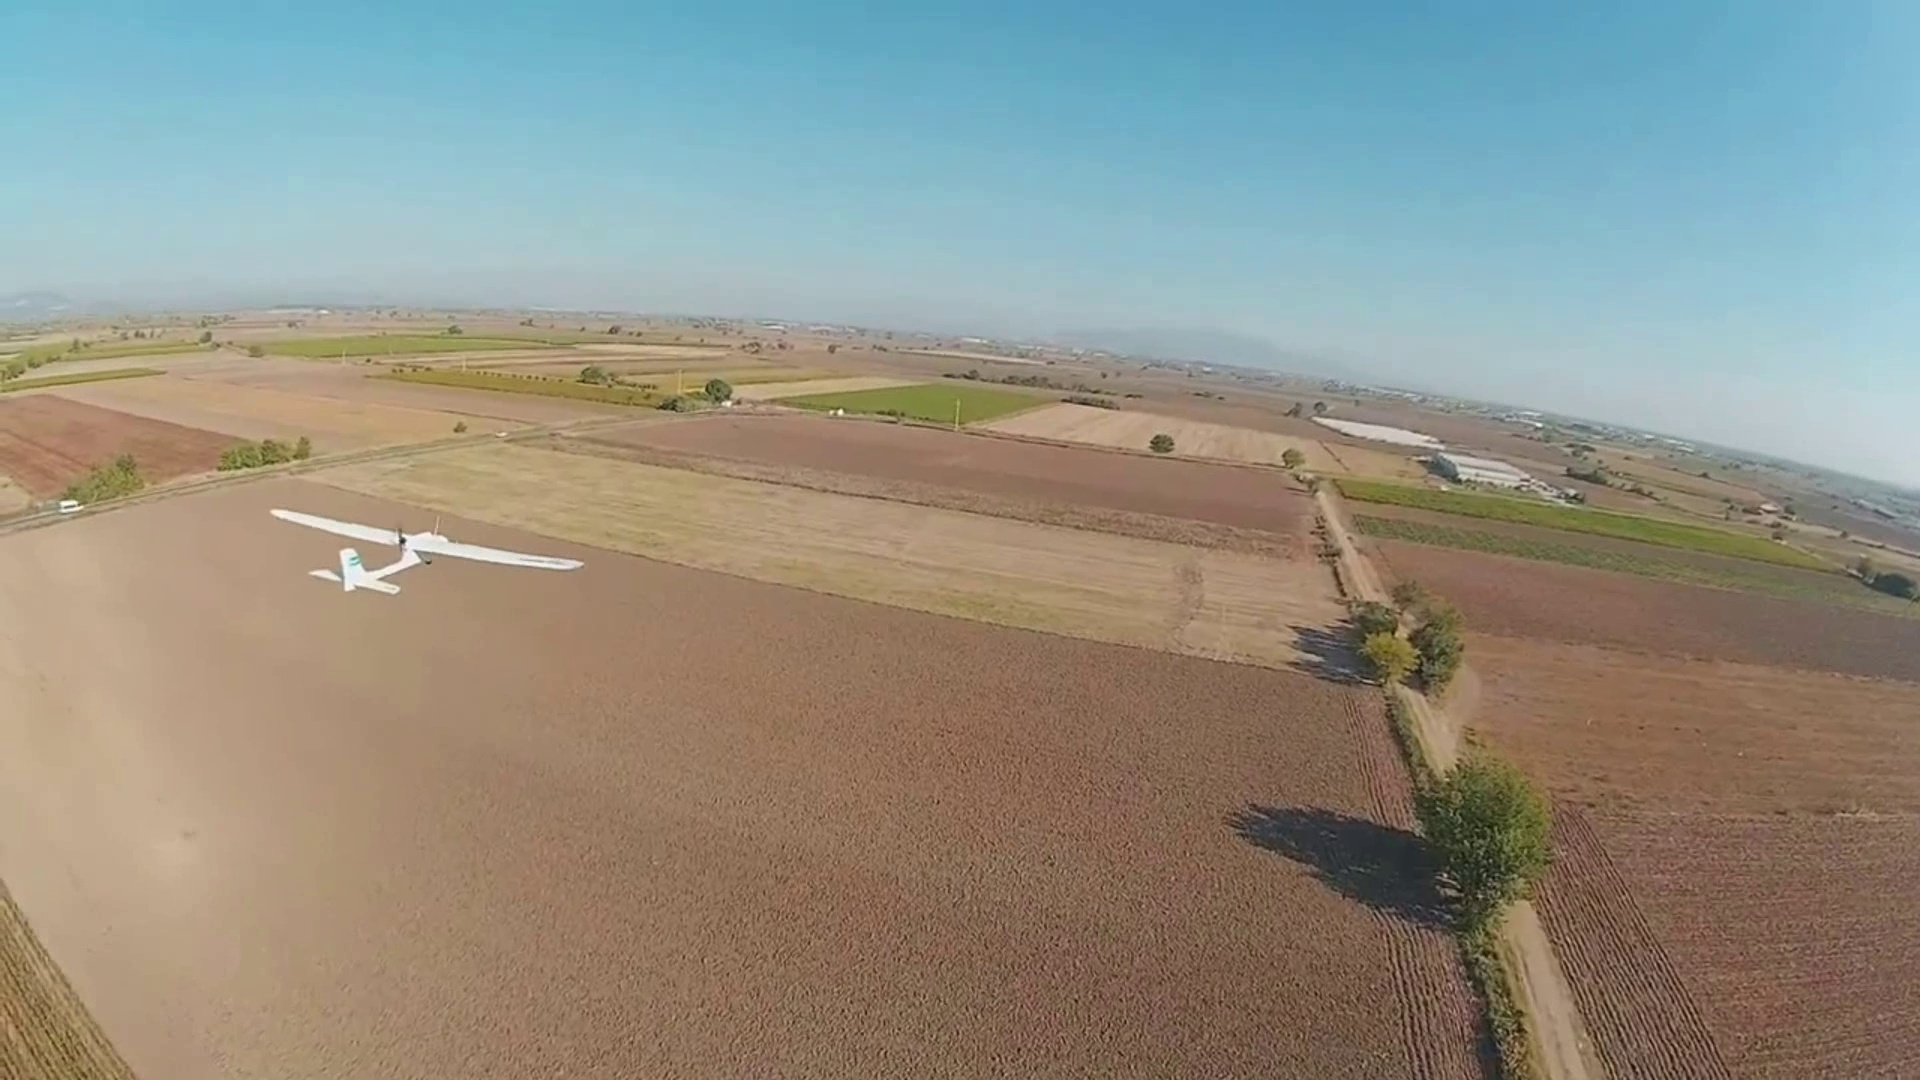airplane: (265, 495, 583, 592)
